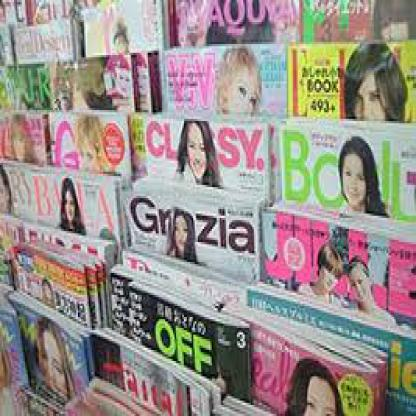paper: (246, 279, 415, 414), (258, 194, 414, 314), (224, 304, 386, 414), (129, 269, 248, 396), (124, 176, 258, 277), (280, 114, 414, 214), (140, 108, 278, 198), (90, 326, 220, 414), (122, 242, 246, 330), (286, 42, 414, 119), (154, 44, 287, 112), (8, 288, 90, 396), (11, 242, 107, 319), (33, 170, 123, 246), (47, 106, 140, 174), (50, 50, 151, 108), (166, 0, 298, 42), (11, 220, 115, 266), (81, 0, 167, 46), (87, 374, 173, 414), (298, 0, 372, 40), (11, 15, 76, 58), (0, 110, 50, 159), (0, 64, 49, 109), (0, 163, 38, 219), (14, 385, 69, 414), (110, 266, 127, 326)
